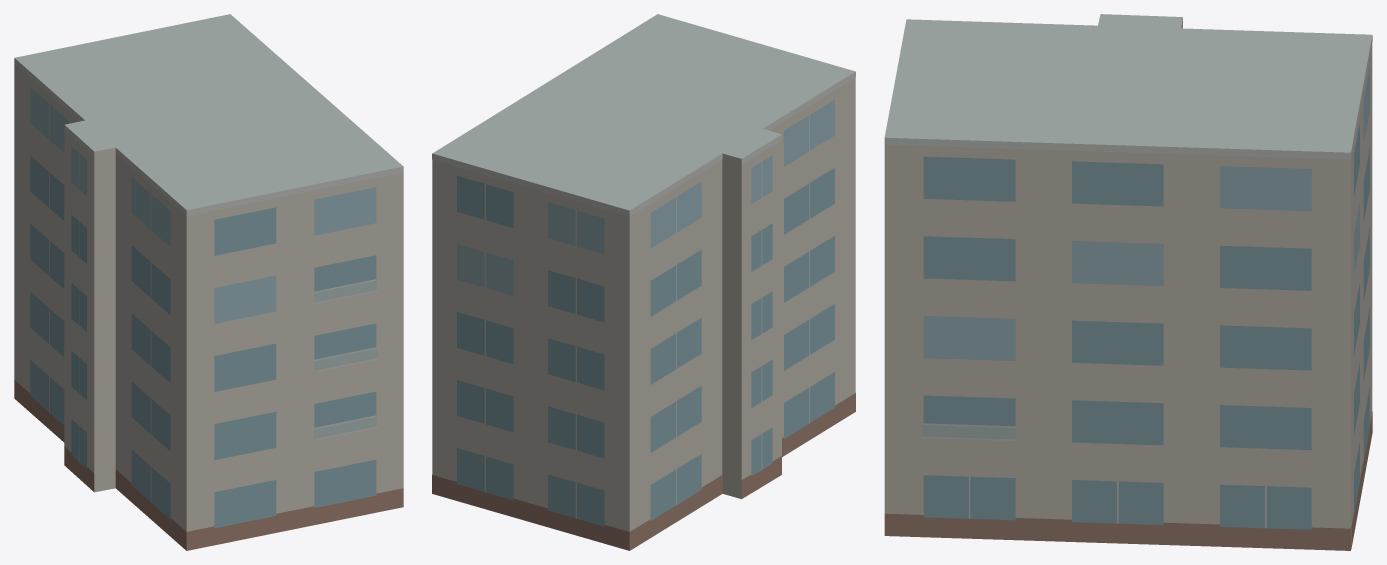
File: survey-upis-32995453.glb
The picture shows the model from 3 angles, left to right: view 1: azimuth 30°, elevation 25°; view 2: azimuth 150°, elevation 25°; view 3: azimuth 270°, elevation 25°; orthographic projection. The views are drawn at different scales.
Visible parts, largest first — view 1: survey-upis-32995453.tmp; view 2: survey-upis-32995453.tmp; view 3: survey-upis-32995453.tmp.
Boxes of the visible parts, x1=… form: survey-upis-32995453.tmp: x1=14, y1=14, x2=403, y2=550; survey-upis-32995453.tmp: x1=432, y1=14, x2=855, y2=550; survey-upis-32995453.tmp: x1=884, y1=14, x2=1372, y2=550.
Size of the model in its own units: 10.43 by 13.95 by 15.5.
